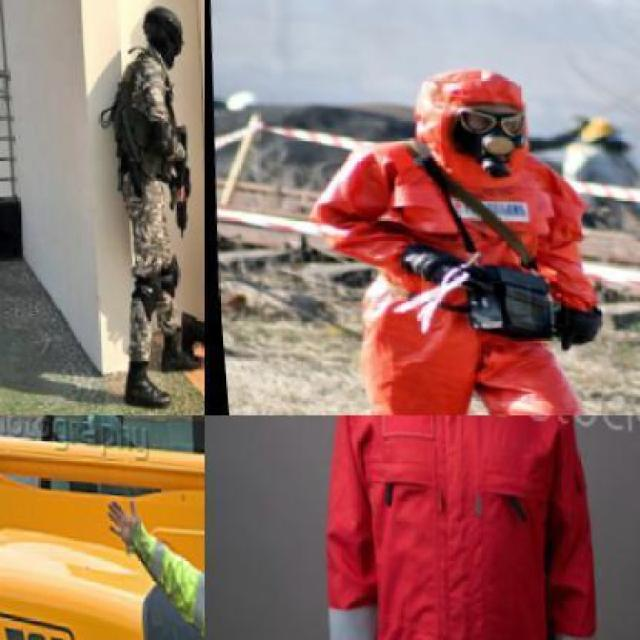Vest: (306, 123, 608, 414), (285, 416, 620, 638), (95, 57, 177, 180)
